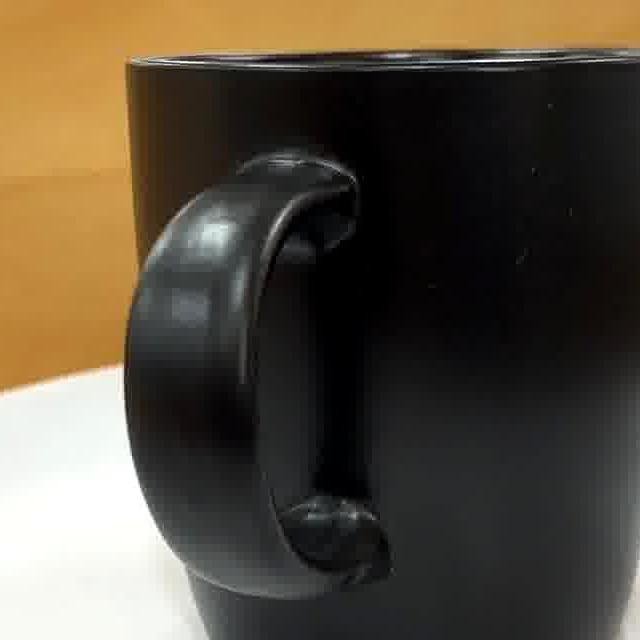cup: (125, 52, 640, 640)
